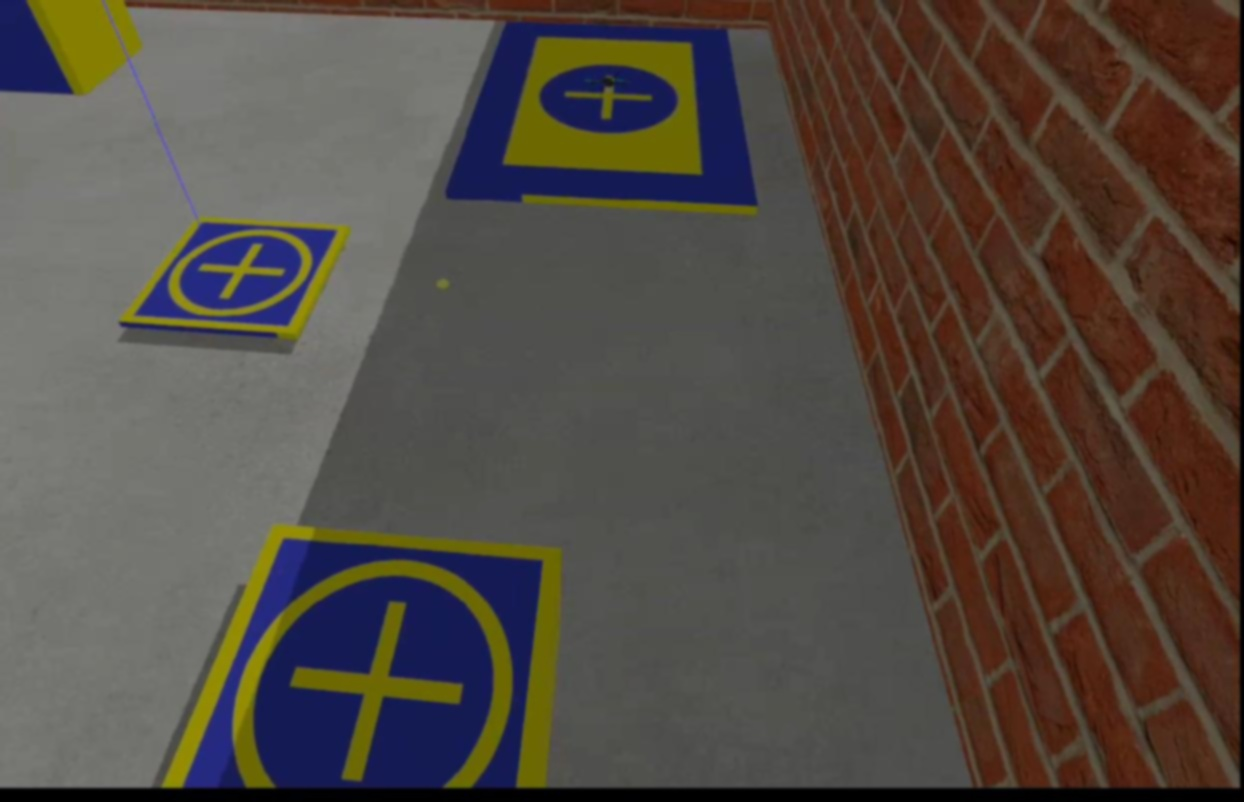large_base: (442, 13, 761, 225)
small_base: (163, 527, 568, 789), (120, 207, 351, 349)
